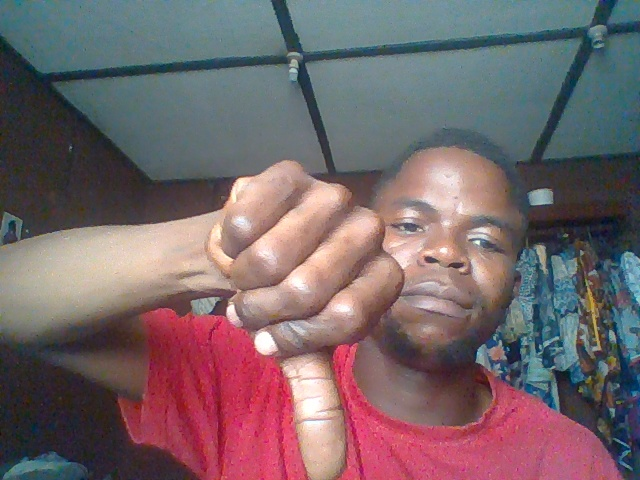Thumbdown: (191, 160, 419, 480)
